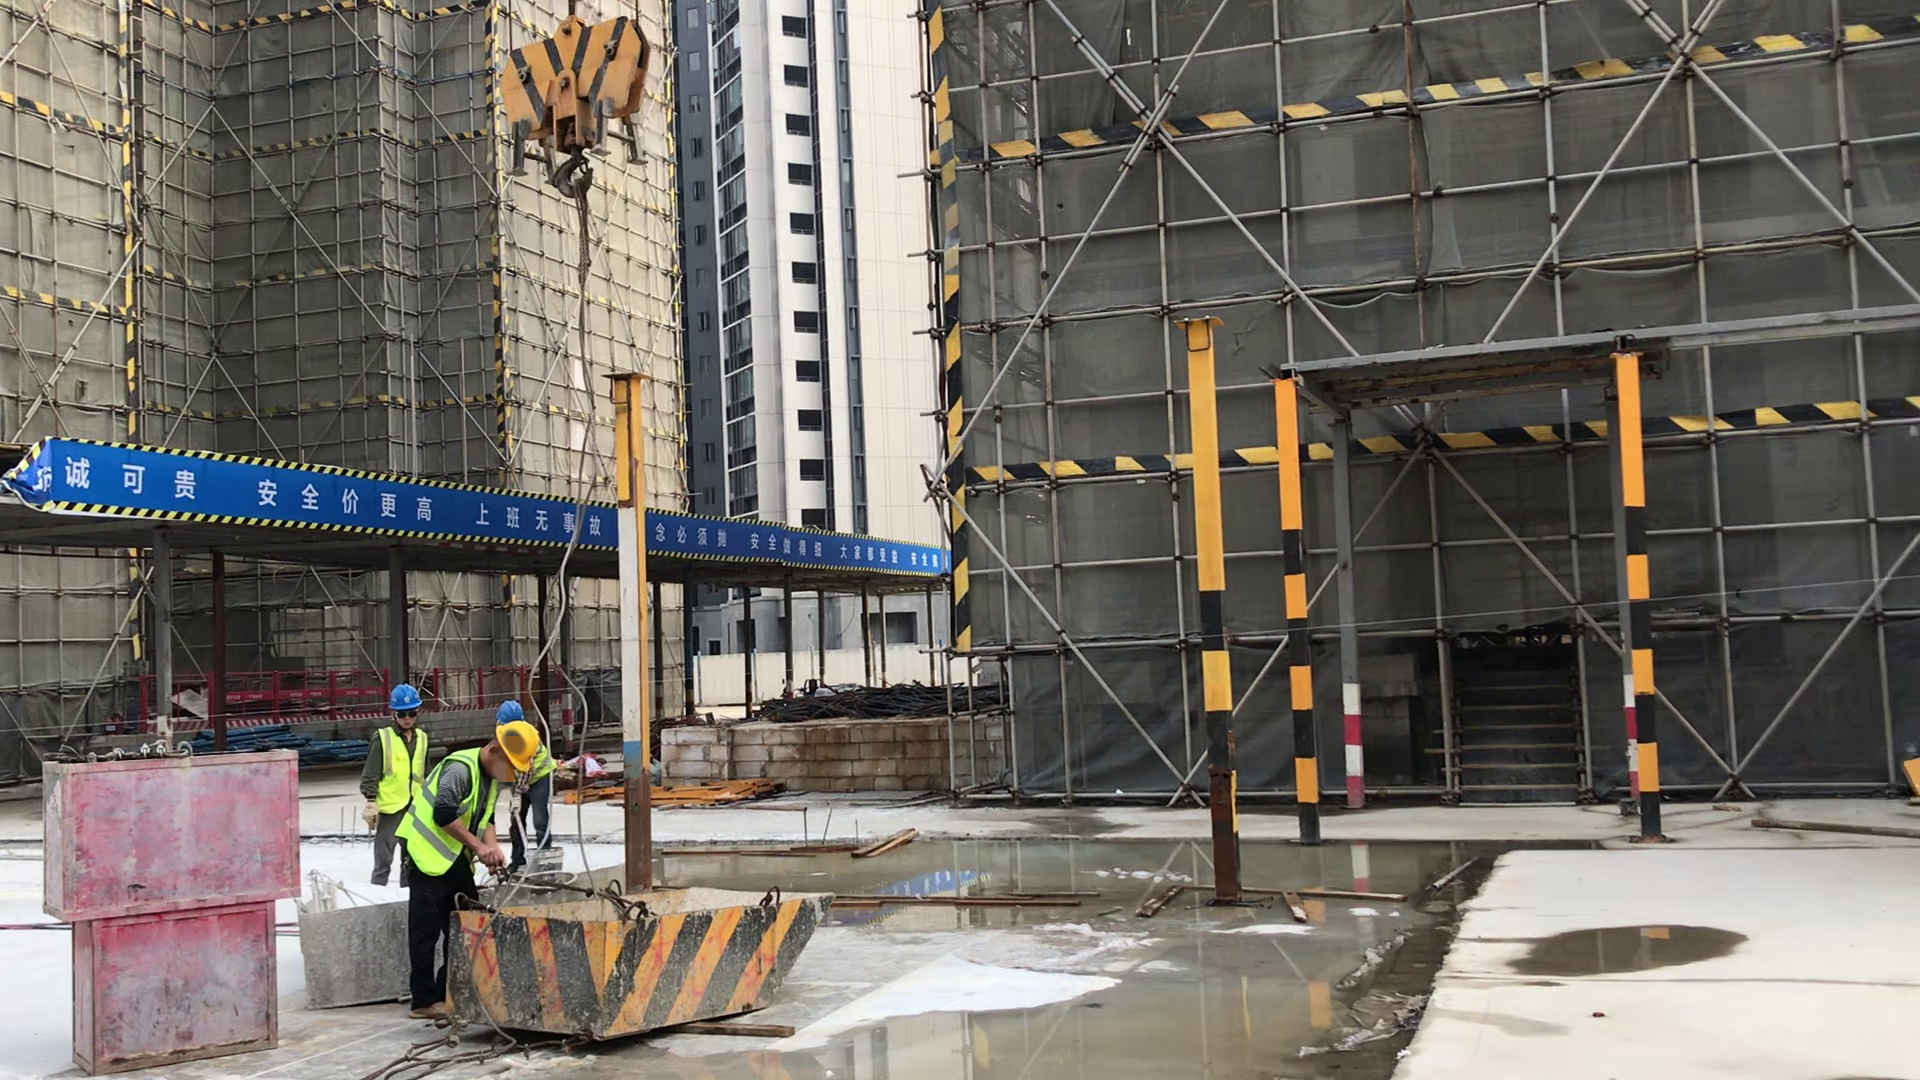fence: (47, 437, 613, 558), (644, 508, 934, 583), (230, 668, 382, 717), (428, 665, 497, 710)
helmet: (494, 722, 542, 771), (388, 685, 421, 710), (494, 702, 526, 721)
hook: (499, 9, 645, 198)
hopper: (443, 874, 847, 1035), (292, 878, 408, 1011)
person: (398, 721, 543, 1022), (355, 680, 423, 885)
vest: (394, 742, 498, 877), (367, 725, 427, 815)
